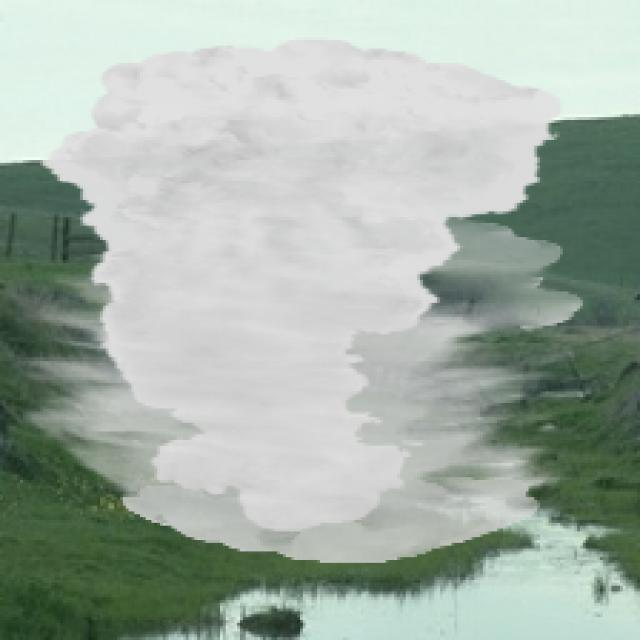Smoke: (17, 37, 583, 563)
